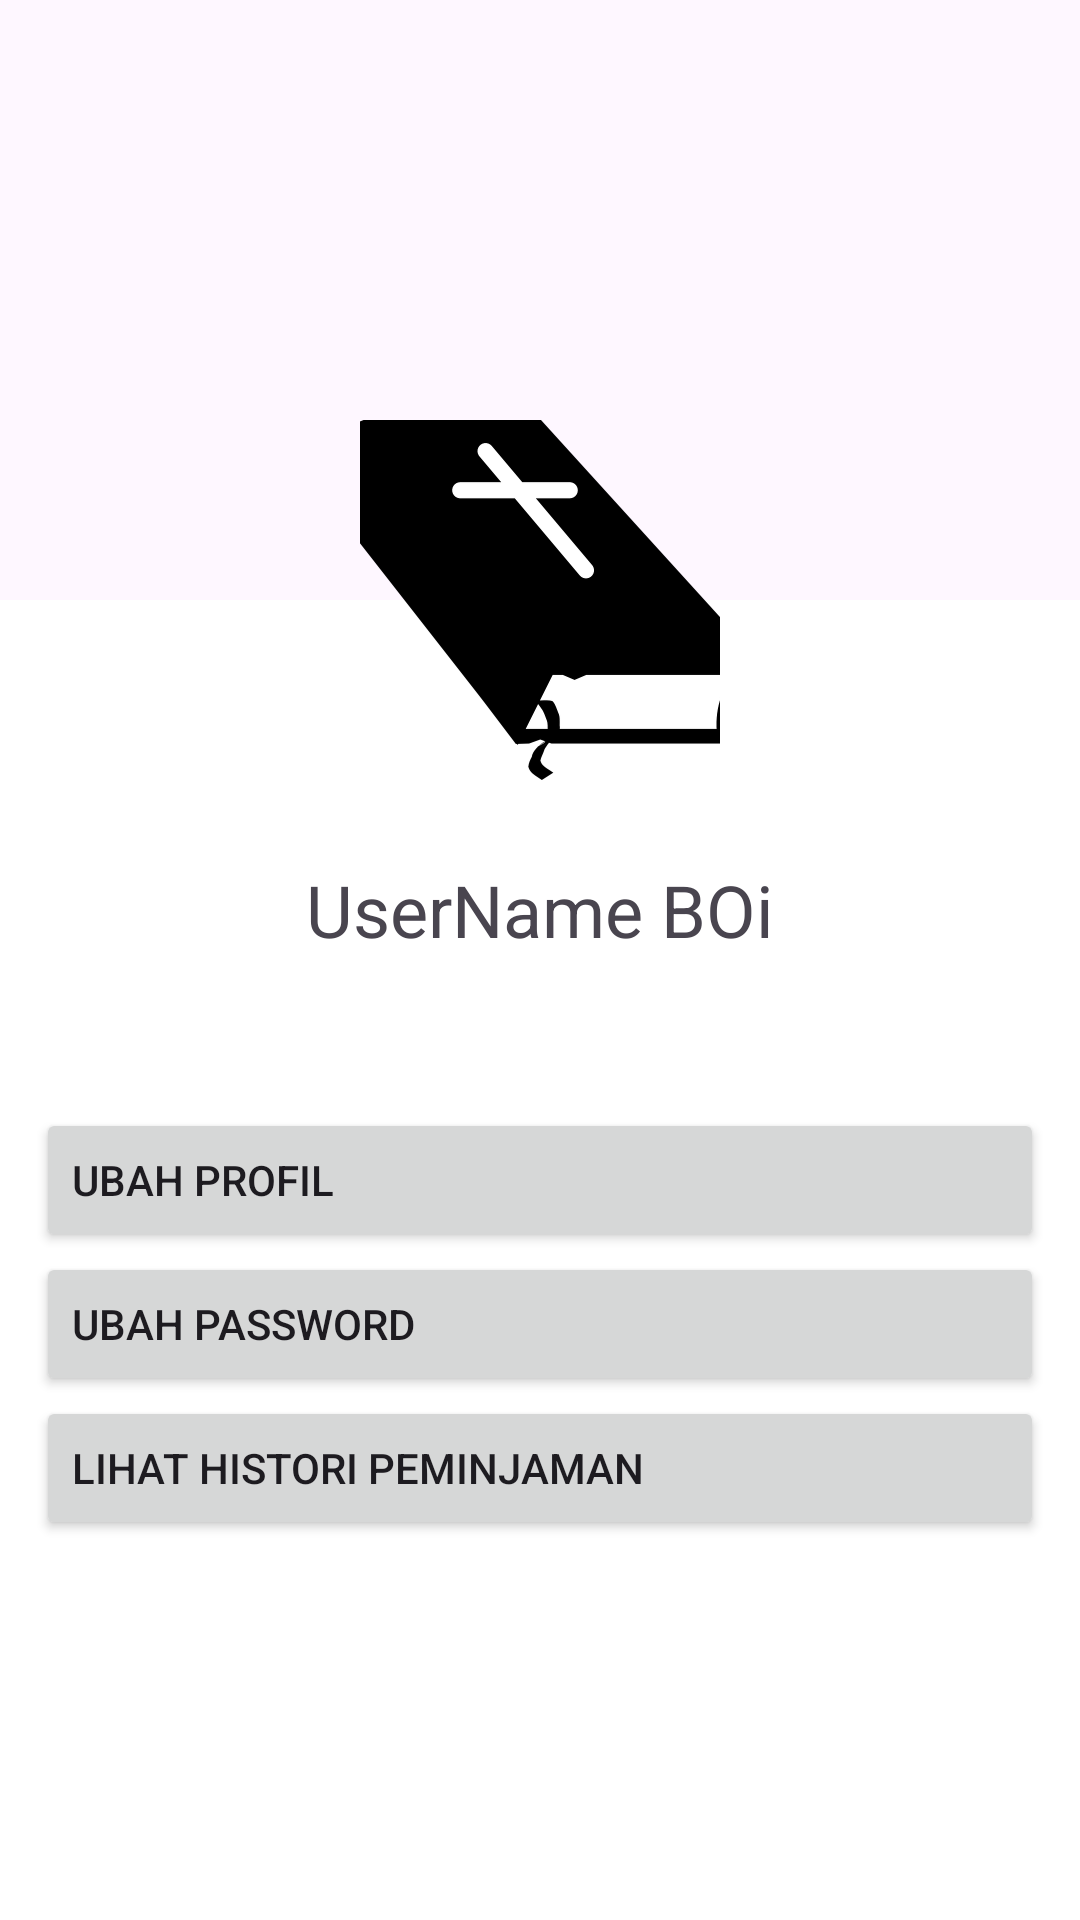

Icon click points for this 1080px×1920px phone screenshot, format point (x, y):
book: point (540, 600)
